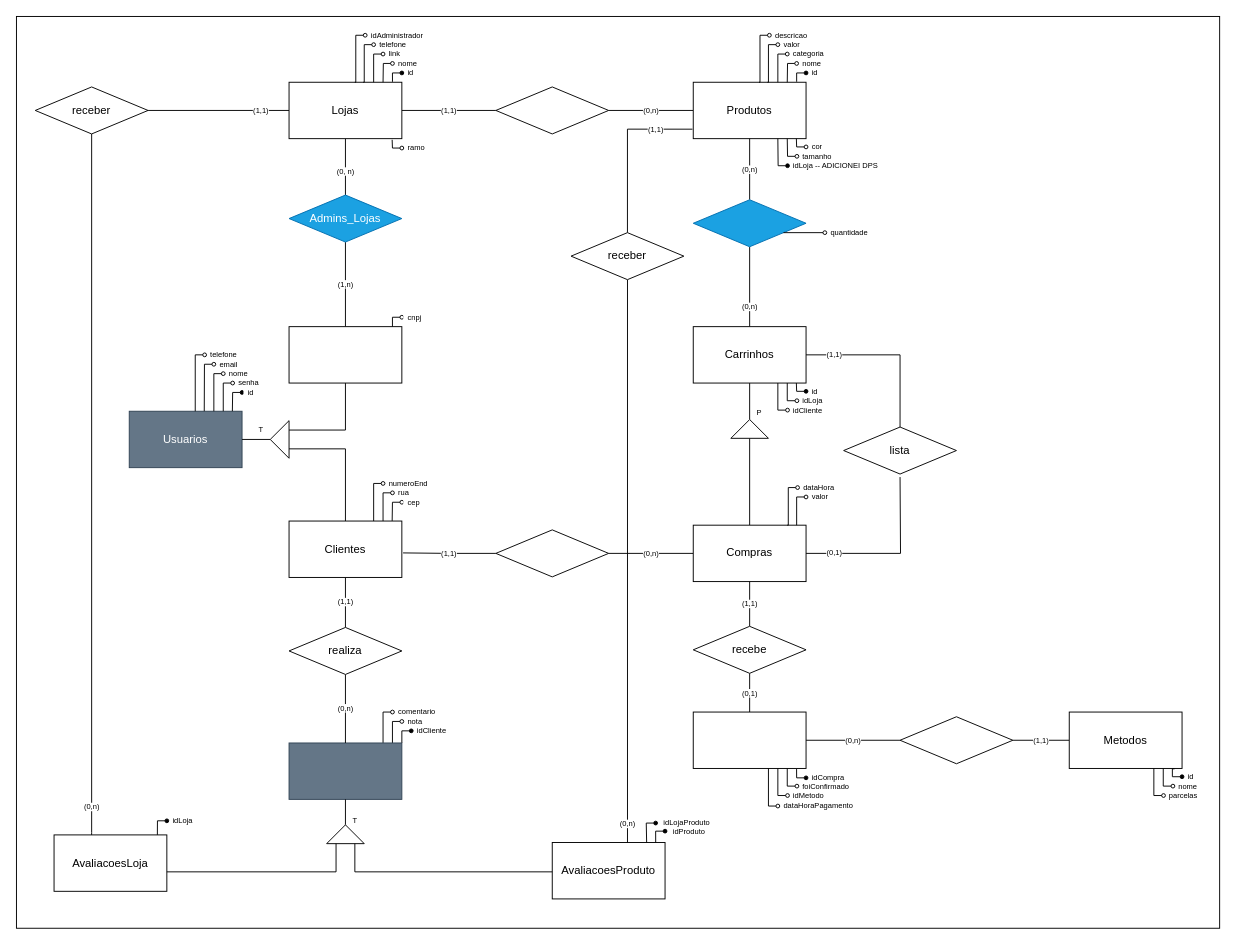
This 1236x945 diagram has some shape labels left out. The shapes that lost their labels are listed below. From the top down, each one's centre as x and y in pixels, then its label:
At (552,110): "oferece".
At (749,223): "Produtos_Carrinho".
At (345,354): "Administradores".
At (552,553): "efetua".
At (749,739): "Pagamentos".
At (956,740): "especifica".
At (345,770): "Avaliacoes".
